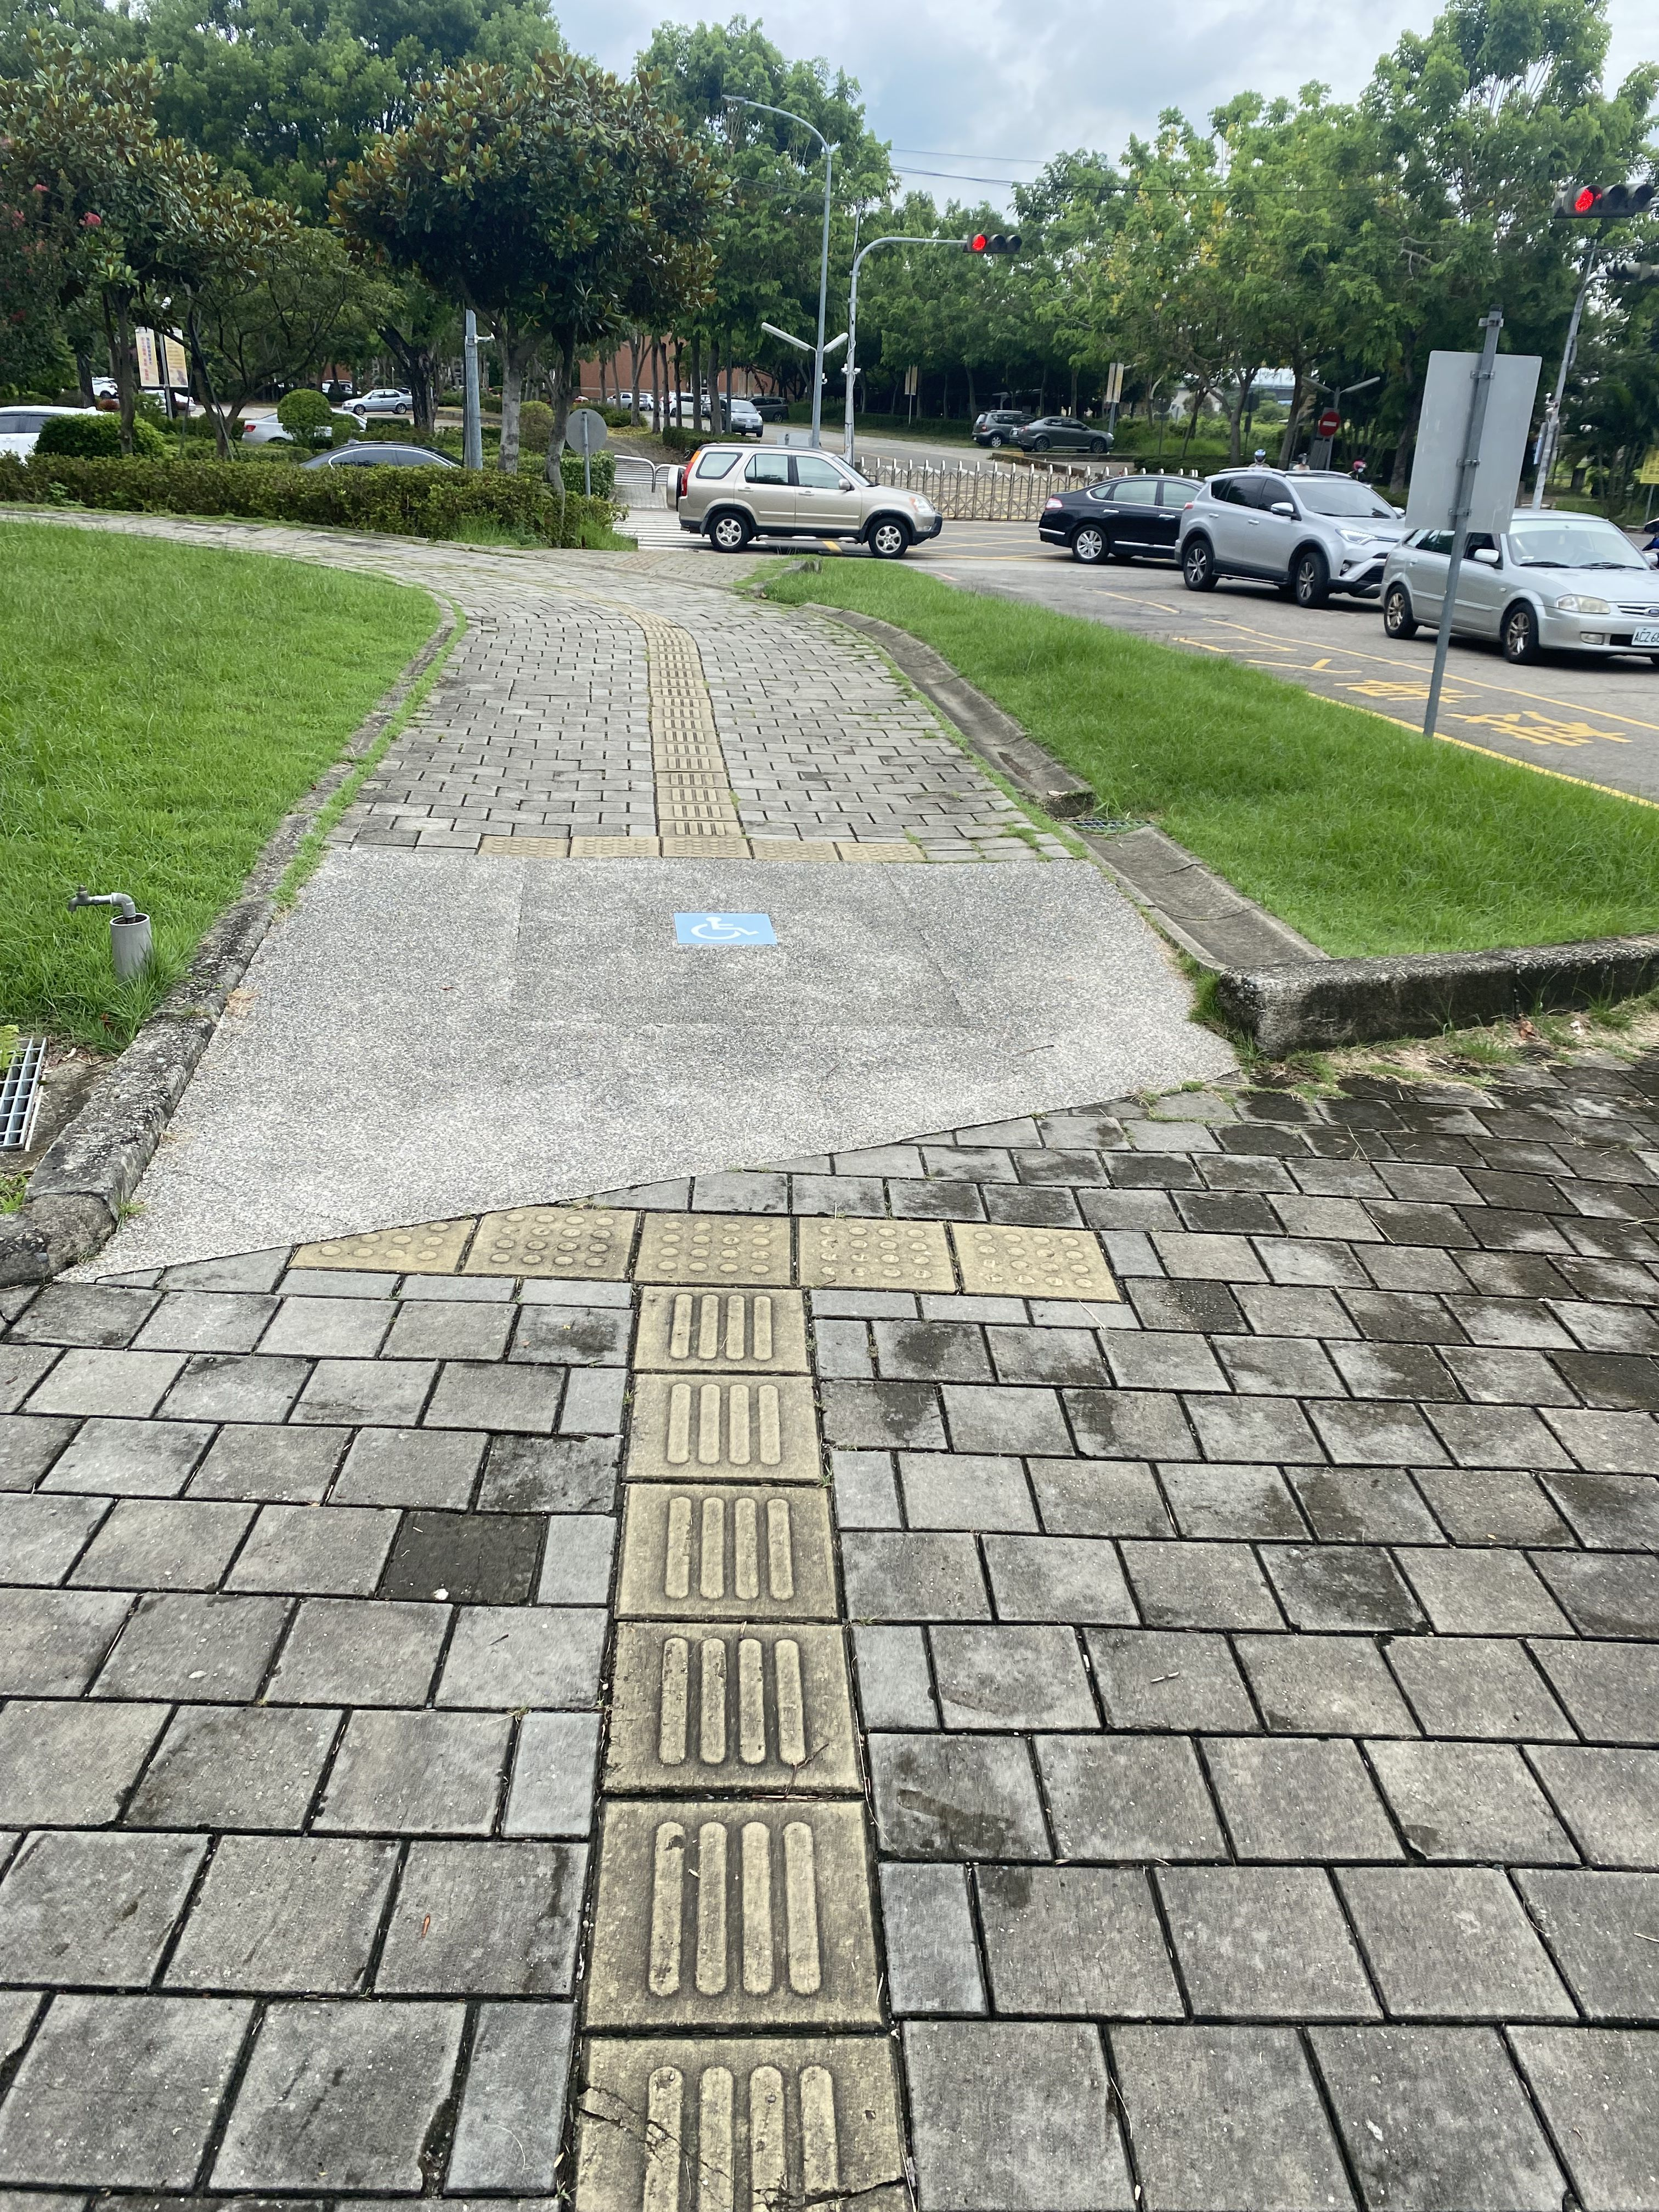0: (0, 1103, 1659, 2210)
sidewalk: (12, 500, 1371, 1294)
